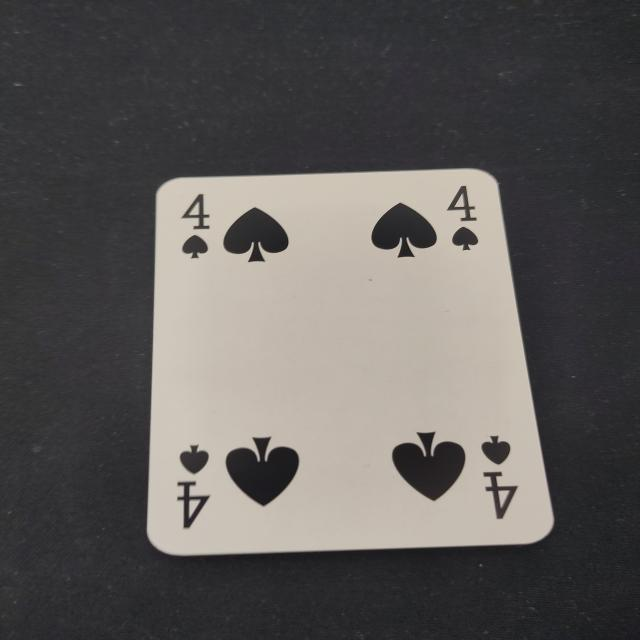4s: (158, 430, 230, 536), (467, 430, 535, 525), (163, 184, 227, 270), (436, 181, 492, 258)
